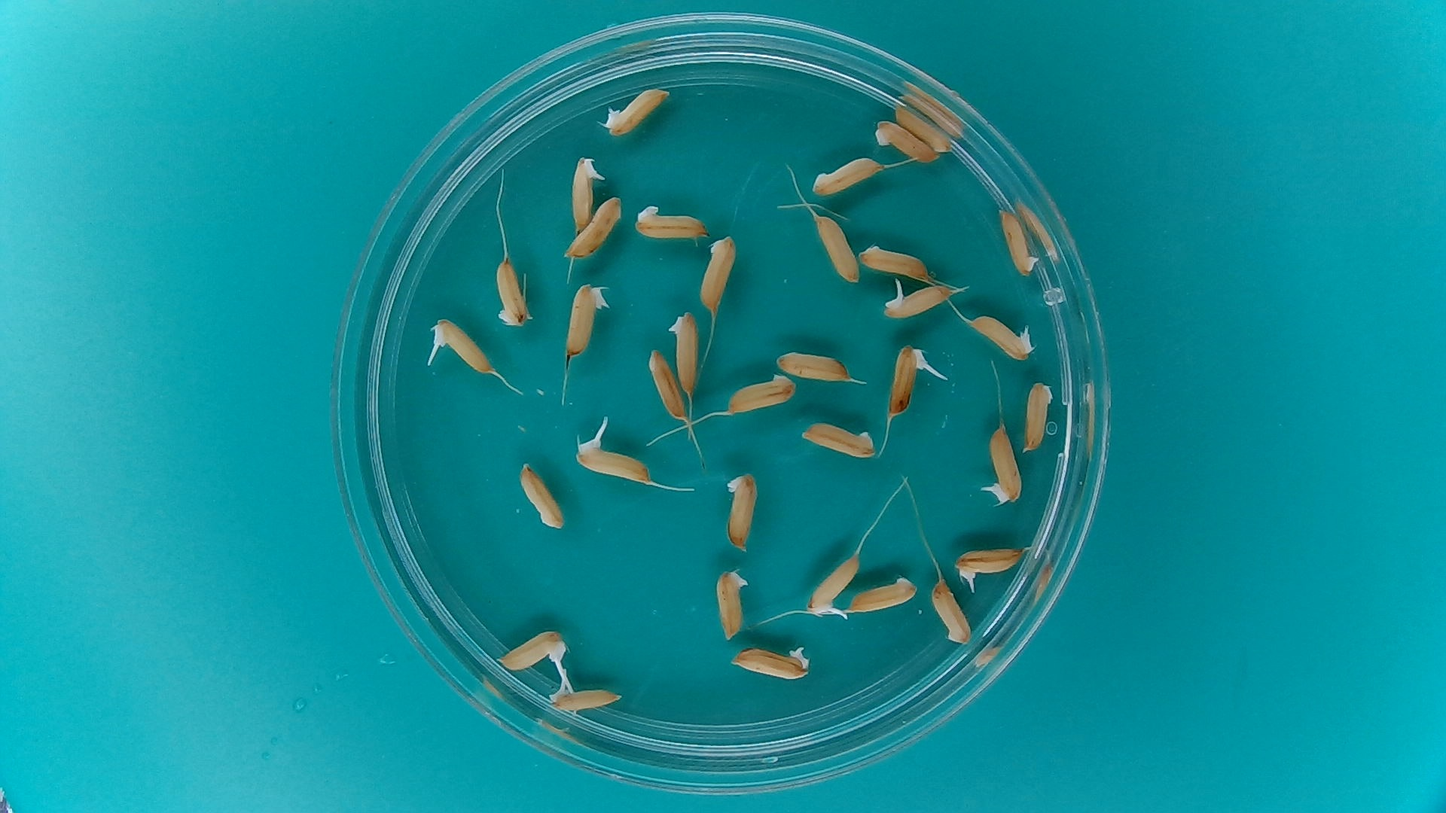no: (560, 279, 615, 360), (598, 82, 672, 137), (562, 195, 624, 260), (664, 306, 703, 398), (723, 369, 801, 415), (696, 231, 739, 313), (630, 199, 712, 242), (797, 418, 878, 461), (812, 212, 859, 285), (890, 102, 955, 154), (856, 239, 938, 280), (996, 208, 1042, 281), (645, 344, 688, 422), (721, 468, 760, 554), (517, 458, 564, 529), (809, 154, 883, 198), (490, 251, 532, 327), (929, 577, 974, 647), (871, 118, 941, 163), (712, 565, 752, 643), (772, 349, 858, 385), (847, 574, 919, 614), (1021, 376, 1057, 454)
yes: (803, 547, 865, 624), (426, 316, 496, 376), (951, 543, 1027, 598), (574, 434, 656, 484), (883, 342, 935, 419), (976, 421, 1022, 507), (962, 311, 1036, 363), (495, 627, 571, 673), (565, 151, 606, 235), (728, 642, 813, 681), (545, 674, 625, 714), (880, 280, 956, 321)
